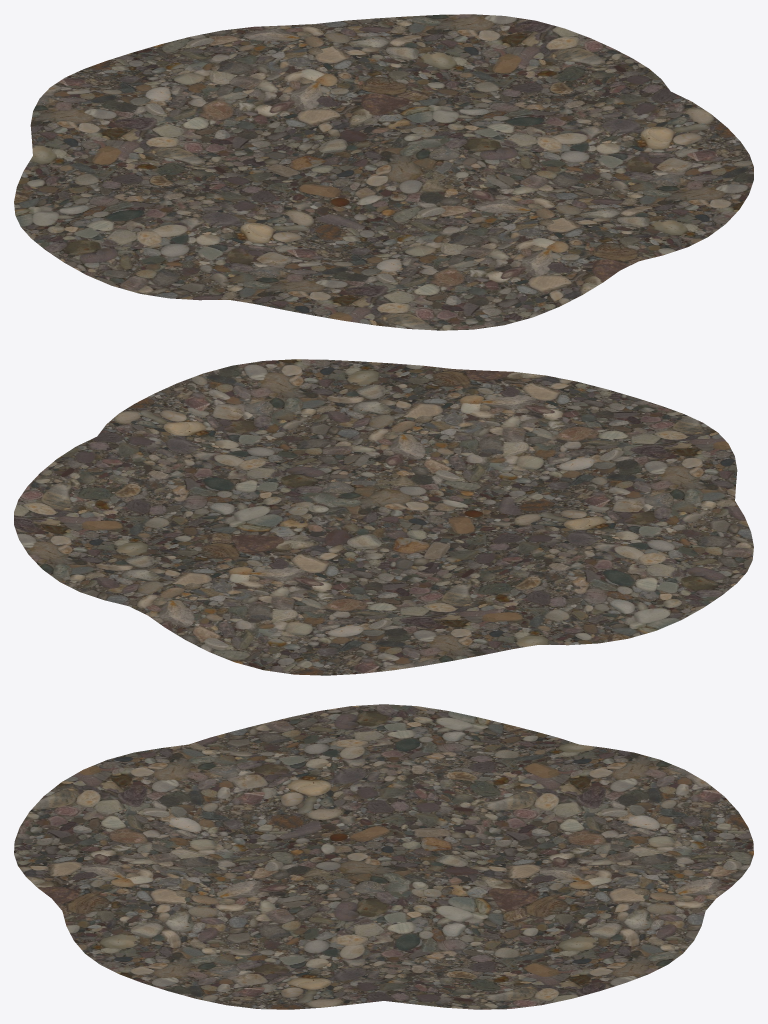
The model's file is koi-pond-scape-hd.glb.
The picture shows the model from 3 angles, top to bottom: view 1: azimuth 30°, elevation 25°; view 2: azimuth 150°, elevation 25°; view 3: azimuth 270°, elevation 25°; orthographic projection.
Visible parts, largest first — view 1: substrate; view 2: substrate; view 3: substrate.
Part boxes in pixels (x1,y1,x2,y2): substrate: (14,14,753,330); substrate: (14,359,753,675); substrate: (14,704,753,1009).
Size of the model in its own units: 1.98 by 0.036 by 2.02.
1 material, 1 textured.
